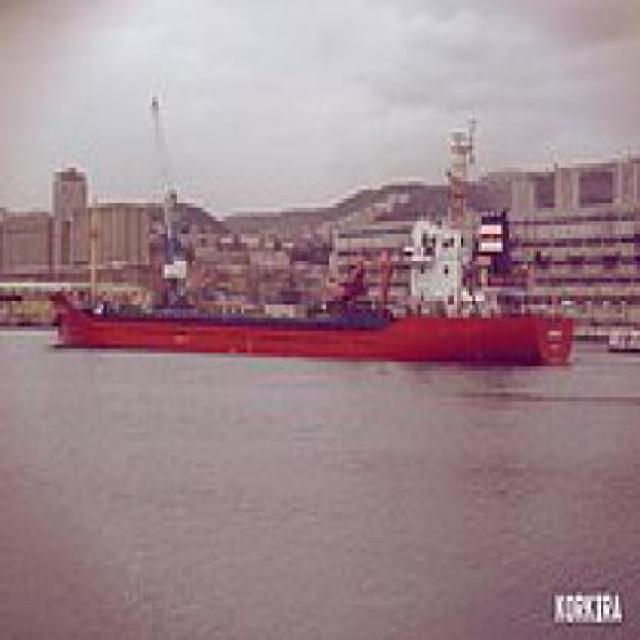container: (53, 227, 587, 390)
